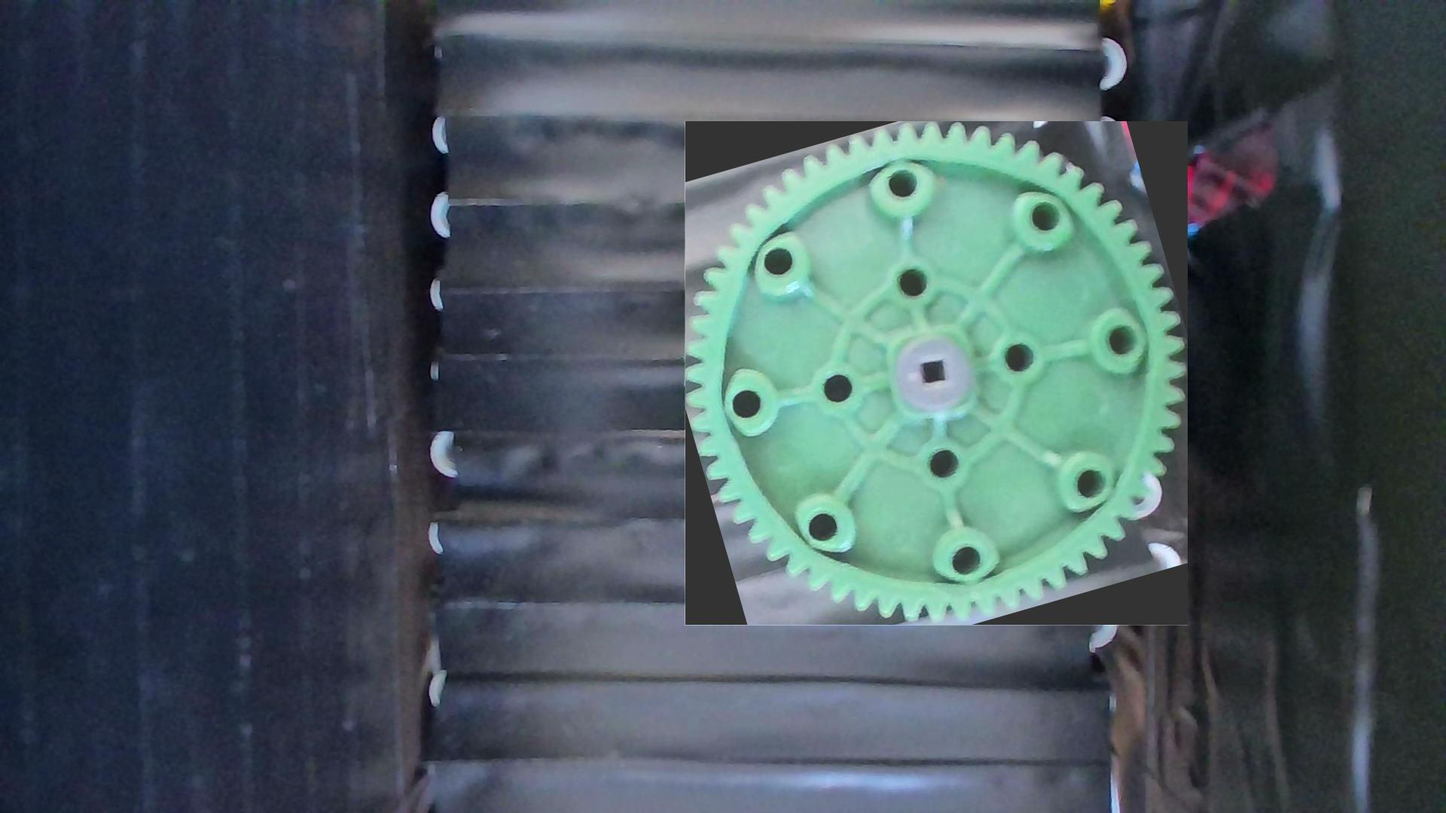gear: (684, 122, 1187, 626)
